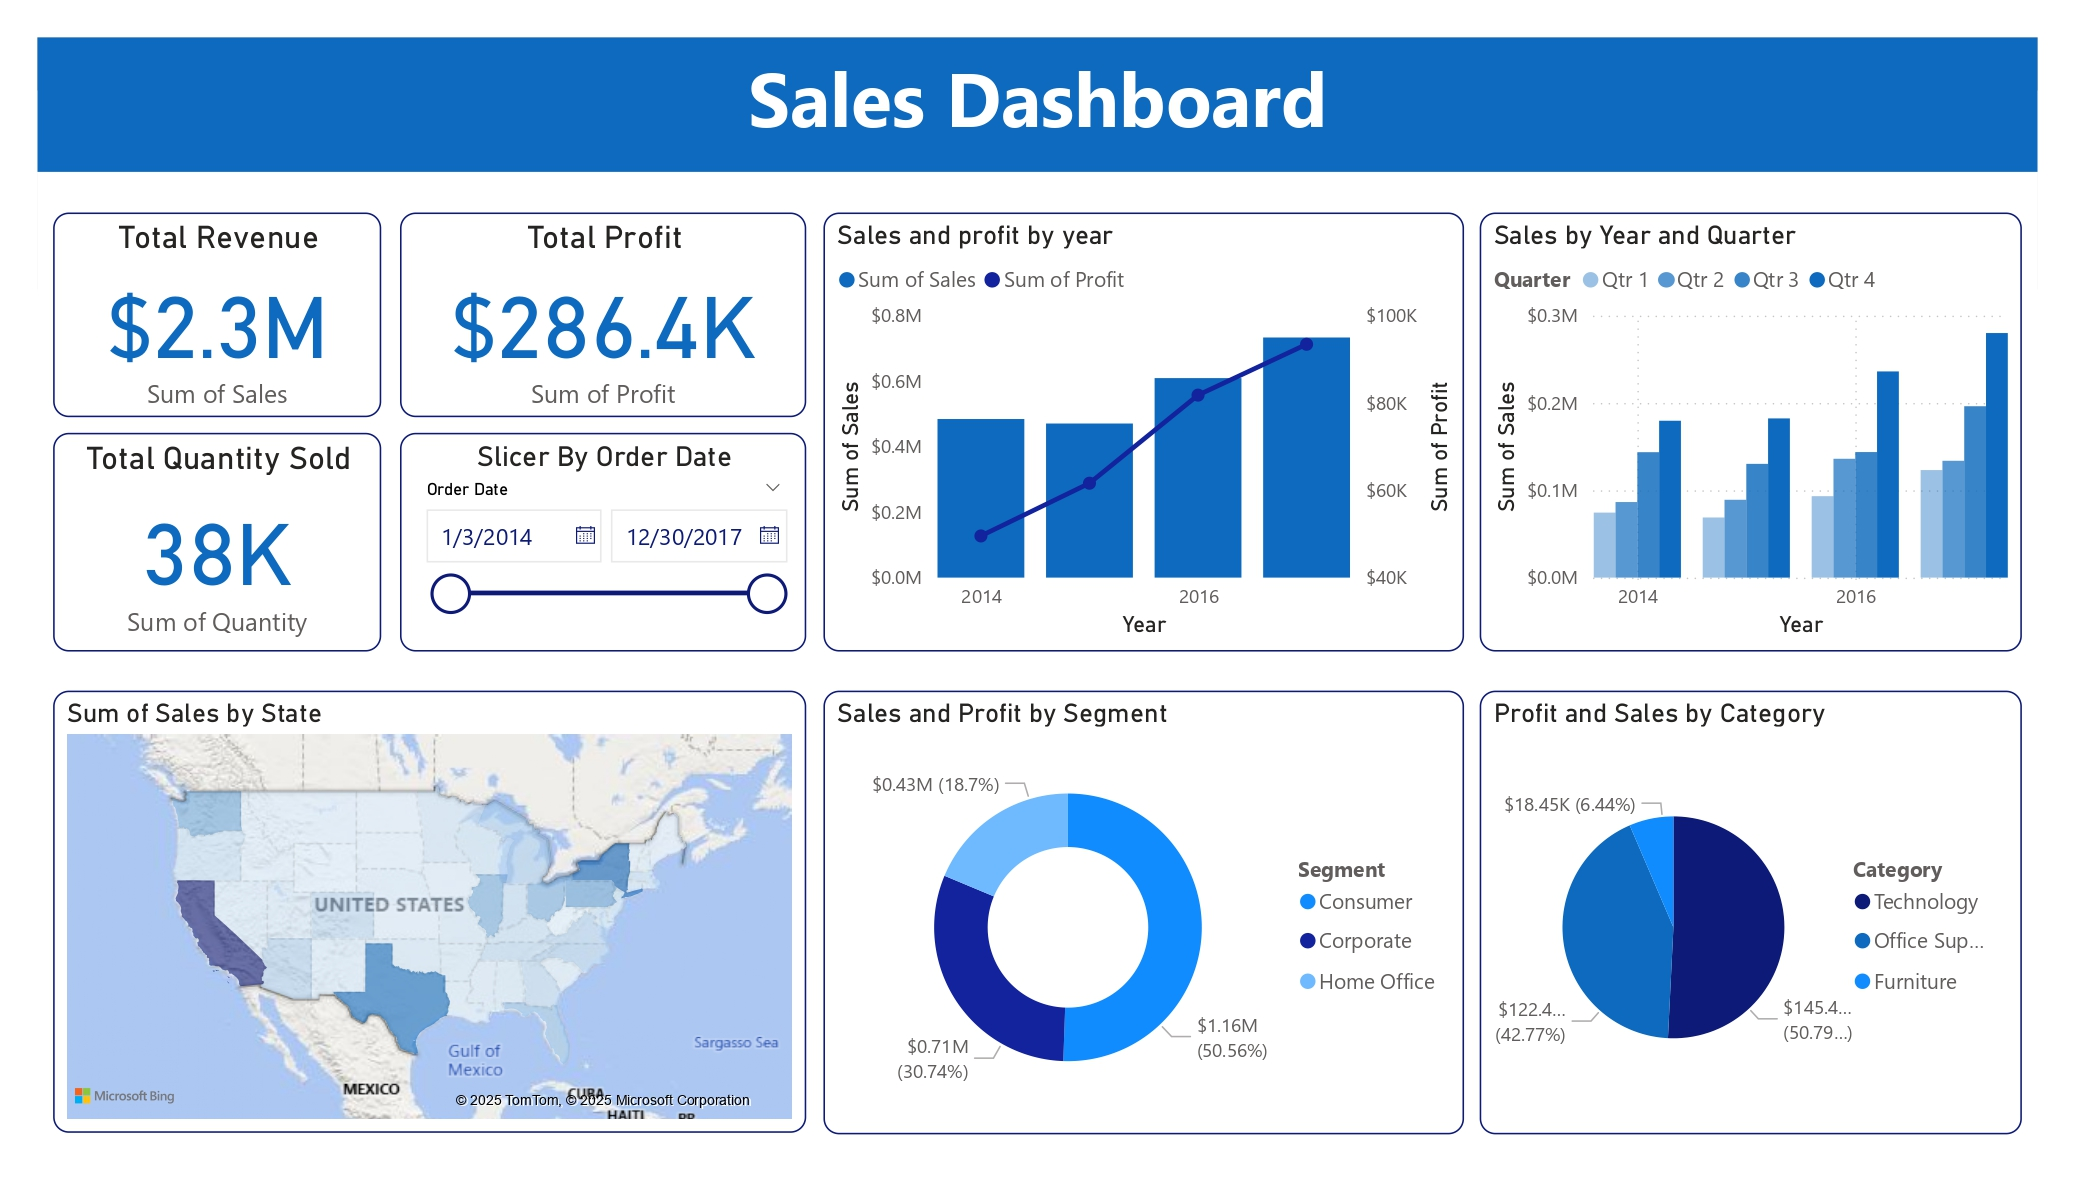

The page's visual inventory and layout, read from the dashboard file:
{"tool":"powerbi","page":{"name":"Sales","canvas":[1280,720],"ordinal":0},"visuals":[{"type":"card","title":"Total Revenue","fields":{"Values":["Sum(Orders.Sales)"]},"box":[10.1,112.3,210.2,131],"z":0},{"type":"textbox","box":[0,0,1280,85.7],"z":1000},{"type":"card","title":"Total Quantity Sold","fields":{"Values":["Sum(Orders.Quantity)"]},"box":[10.1,253.4,210.2,139.7],"z":2000},{"type":"card","title":"Total Profit","fields":{"Values":["Sum(Orders.Profit)"]},"box":[231.8,112.3,260.6,131],"z":3000},{"type":"slicer","title":"Slicer By Order Date","fields":{"Values":["Orders.Order Date"]},"box":[231.8,253.4,260.6,139.7],"z":4000},{"type":"lineStackedColumnComboChart","title":"Sales and profit by year","fields":{"Category":["Orders.Order Date.Variation.Date Hierarchy.Year","Orders.Order Date.Variation.Date Hierarchy.Quarter","Orders.Order Date.Variation.Date Hierarchy.Month","Orders.Order Date.Variation.Date Hierarchy.Day"],"Y":["Sum(Orders.Sales)"],"Y2":["Sum(Orders.Profit)"]},"box":[502.6,112.3,410.4,280.8],"z":5000},{"type":"clusteredColumnChart","title":"Sales by Year and Quarter","fields":{"Category":["Orders.Year"],"Y":["Sum(Orders.Sales)"],"Series":["Orders.Quarter"]},"box":[923,112.3,347,280.8],"z":6000},{"type":"filledMap","fields":{"Category":["Orders.State"]},"box":[10.1,417.6,482.4,283.7],"z":7000},{"type":"donutChart","title":"Sales and Profit by Segment","fields":{"Category":["Orders.Segment"],"Y":["Sum(Orders.Sales)"]},"box":[503,418,410,284],"z":8000},{"type":"pieChart","title":"Profit and Sales by Category","fields":{"Category":["Orders.Category"],"Y":["Sum(Orders.Profit)"]},"box":[923,418,347,284],"z":9000}]}

Visuals, with their boxes in screenshot pixels (x1, y1, x2, y2):
"Total Revenue" card: box(53, 213, 382, 418)
textbox: box(38, 38, 2038, 171)
"Total Quantity Sold" card: box(53, 433, 382, 652)
"Total Profit" card: box(400, 213, 807, 418)
"Slicer By Order Date" slicer: box(400, 433, 807, 652)
"Sales and profit by year" lineStackedColumnComboChart: box(823, 213, 1464, 652)
"Sales by Year and Quarter" clusteredColumnChart: box(1480, 213, 2022, 652)
filledMap - Orders.State: box(53, 690, 807, 1133)
"Sales and Profit by Segment" donutChart: box(823, 691, 1464, 1134)
"Profit and Sales by Category" pieChart: box(1480, 691, 2022, 1134)
